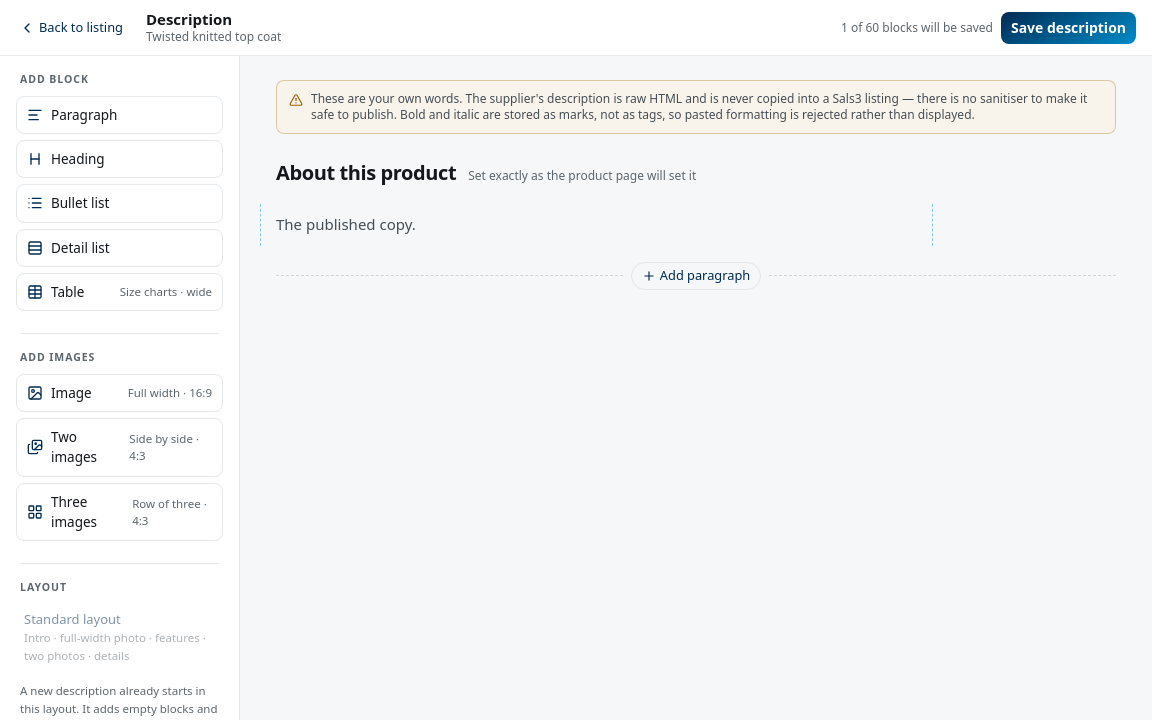
Test: DescriptionStudioClient › claims nothing about publication for a product that has none
Click the button "Save description". click: (1068, 28)
box: [1001, 12, 1136, 44]
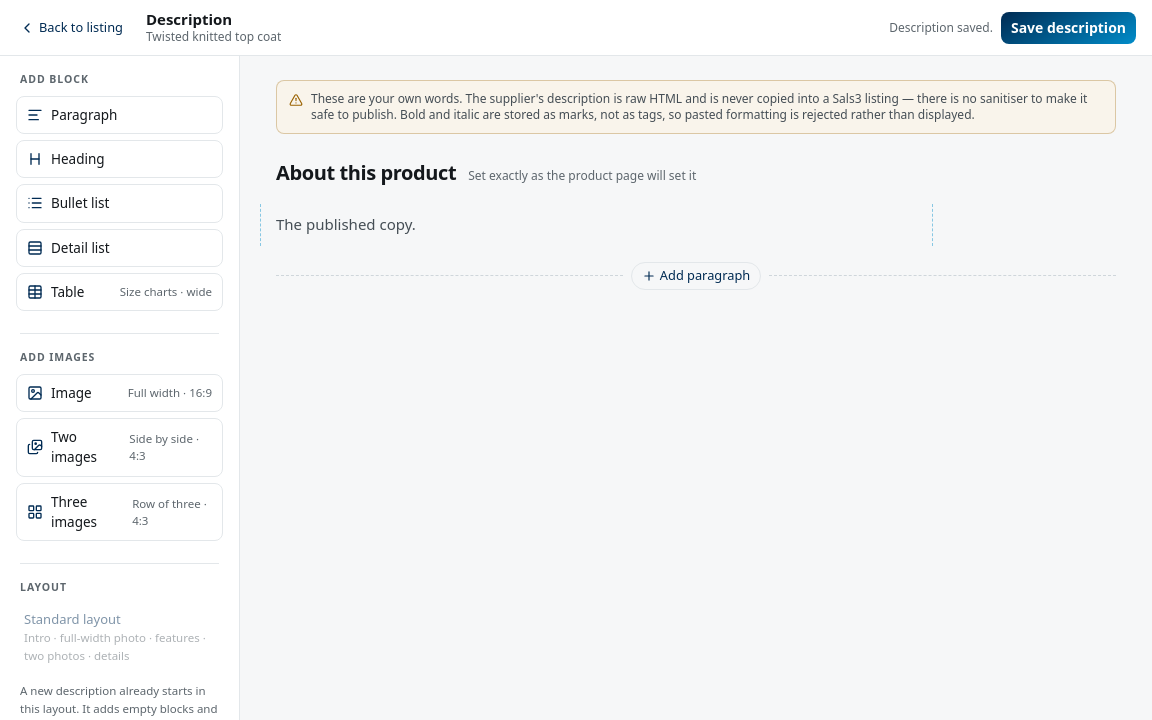
Expected: the text "Description saved." is shown, [889, 20, 993, 36]
